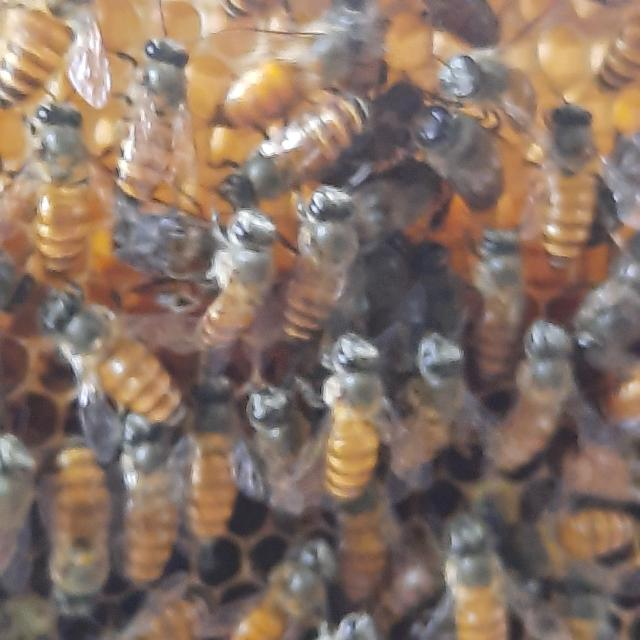honeybee: (30, 288, 186, 445), (222, 0, 386, 120), (217, 95, 383, 202), (105, 32, 203, 208), (188, 204, 280, 377), (483, 318, 579, 470), (233, 367, 330, 515), (212, 538, 350, 640), (24, 92, 99, 273), (409, 96, 523, 208), (285, 183, 358, 357), (114, 409, 184, 590), (428, 511, 525, 640), (469, 215, 542, 385), (324, 246, 416, 373), (320, 336, 393, 492), (42, 451, 112, 611), (319, 483, 397, 610), (396, 230, 472, 358), (0, 0, 90, 108), (187, 375, 243, 546), (542, 100, 601, 259), (567, 253, 640, 369), (399, 338, 459, 468), (558, 513, 640, 603), (0, 425, 36, 601), (444, 54, 533, 124), (423, 0, 506, 57), (597, 5, 640, 105)
